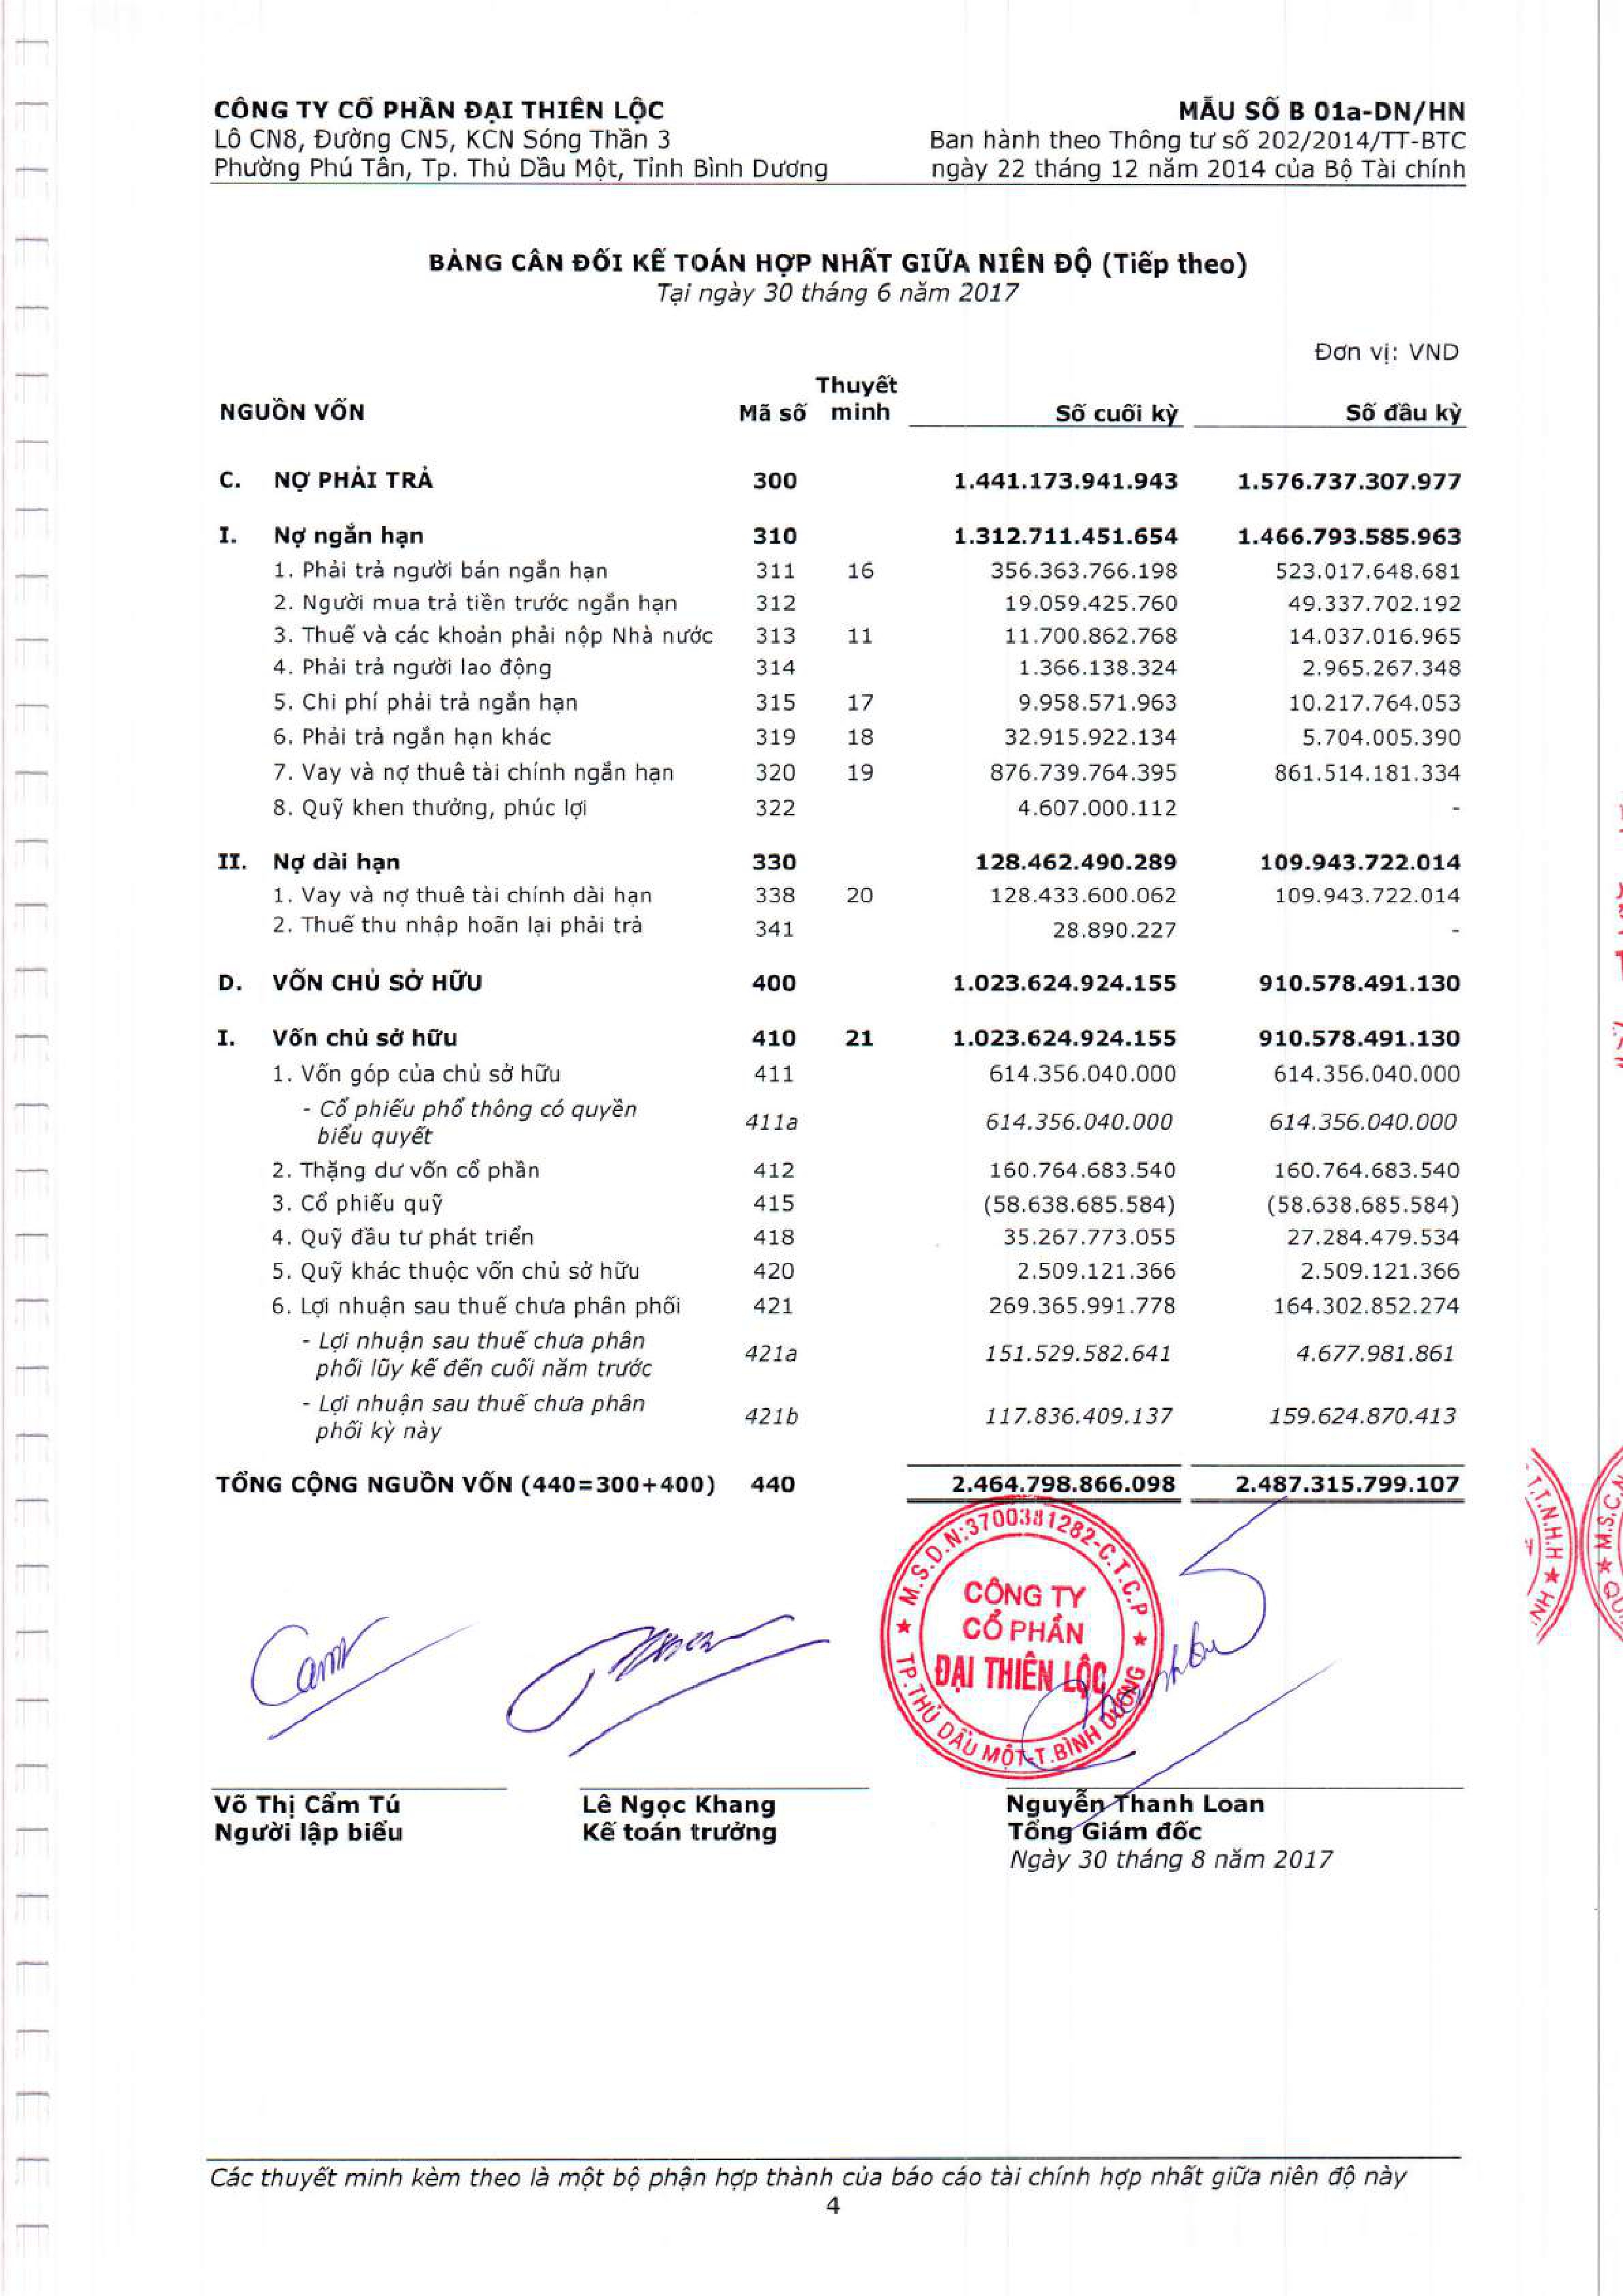table: (200, 370, 1482, 1515)
table column: (213, 370, 717, 1515), (933, 370, 1205, 1515), (1214, 370, 1472, 1515), (820, 370, 915, 1515), (727, 370, 817, 1515)
table column header: (202, 379, 1481, 439)
table row: (200, 376, 1482, 441), (200, 1436, 1482, 1497), (200, 1097, 1482, 1153), (200, 1302, 1482, 1357), (200, 1359, 1482, 1413), (200, 620, 1482, 669), (200, 462, 1482, 502), (200, 518, 1482, 558), (200, 972, 1482, 1013), (200, 1037, 1482, 1069), (200, 734, 1482, 762), (200, 1243, 1482, 1271), (200, 1273, 1482, 1301), (200, 562, 1482, 588), (200, 592, 1482, 618), (200, 674, 1482, 700), (200, 704, 1482, 730), (200, 765, 1482, 792), (200, 797, 1482, 823), (200, 857, 1482, 883), (200, 886, 1482, 913), (200, 915, 1482, 941), (200, 1071, 1482, 1097), (200, 1155, 1482, 1181), (200, 1183, 1482, 1209), (200, 1213, 1482, 1239)
